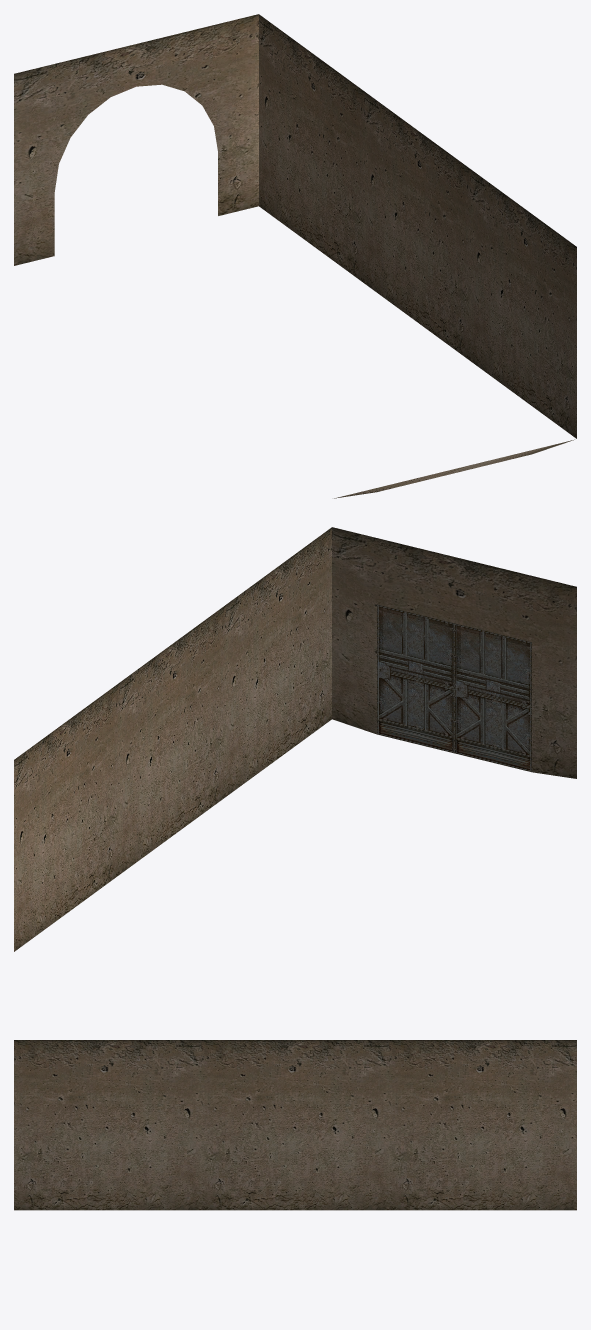
The model's file is M11Z1_TownWall08_A3.glb.
The picture shows the model from 3 angles, top to bottom: view 1: azimuth 30°, elevation 25°; view 2: azimuth 150°, elevation 25°; view 3: azimuth 270°, elevation 25°; orthographic projection. The views are drawn at different scales.
Parts seen in each view (by area): view 1: M11Z1_TOWNWALL08_A3; view 2: M11Z1_TOWNWALL08_A3; view 3: M11Z1_TOWNWALL08_A3.
Boxes of the visible parts, left/top/right/bottom form: M11Z1_TOWNWALL08_A3: left=14, top=14, right=576, bottom=498; M11Z1_TOWNWALL08_A3: left=14, top=527, right=576, bottom=951; M11Z1_TOWNWALL08_A3: left=14, top=1040, right=576, bottom=1210.
Bounding box in the file's own units: 12 × 9.2 × 27.
2 materials, 2 textured.
